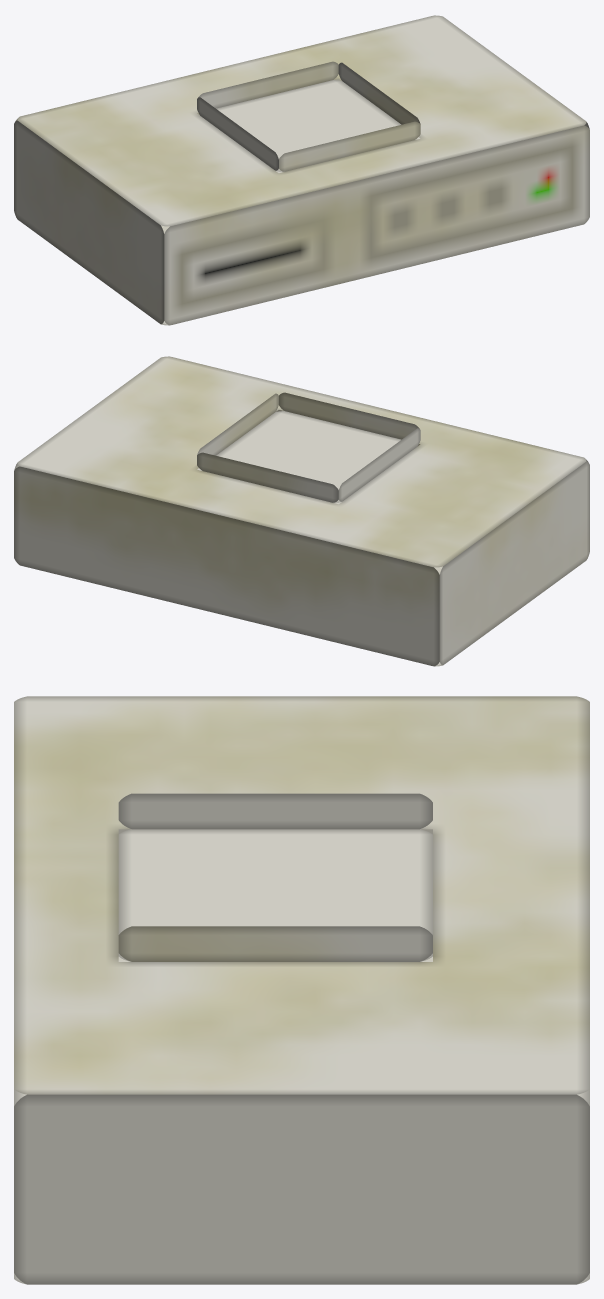
The model's file is ComputerBottom.obj.
3 views of the same model, one above another, from view 1: azimuth 30°, elevation 25°; view 2: azimuth 150°, elevation 25°; view 3: azimuth 270°, elevation 25° (orthographic). The views are drawn at different scales.
Parts seen in each view (by area): view 1: cuboid; view 2: cuboid; view 3: cuboid.
Part boxes in pixels (box(x1,y1,x2,y2)): cuboid: box(14, 15, 589, 325); cuboid: box(14, 356, 589, 666); cuboid: box(14, 696, 589, 1284).
Bounding box in the file's own units: 1.12 × 0.2969 × 0.6875.
1 material, 1 textured.
